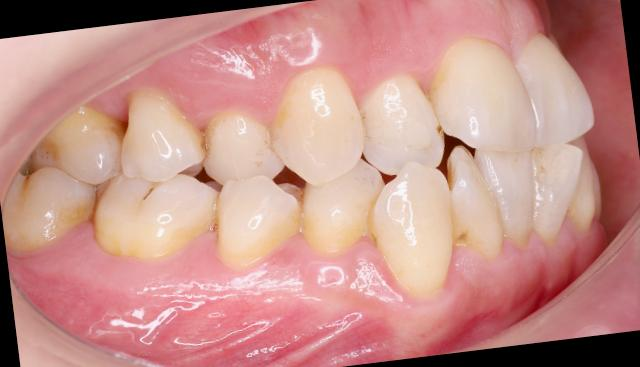canine class III-3/4: (260, 42, 464, 322)
molar class III full class: (0, 82, 225, 292)
